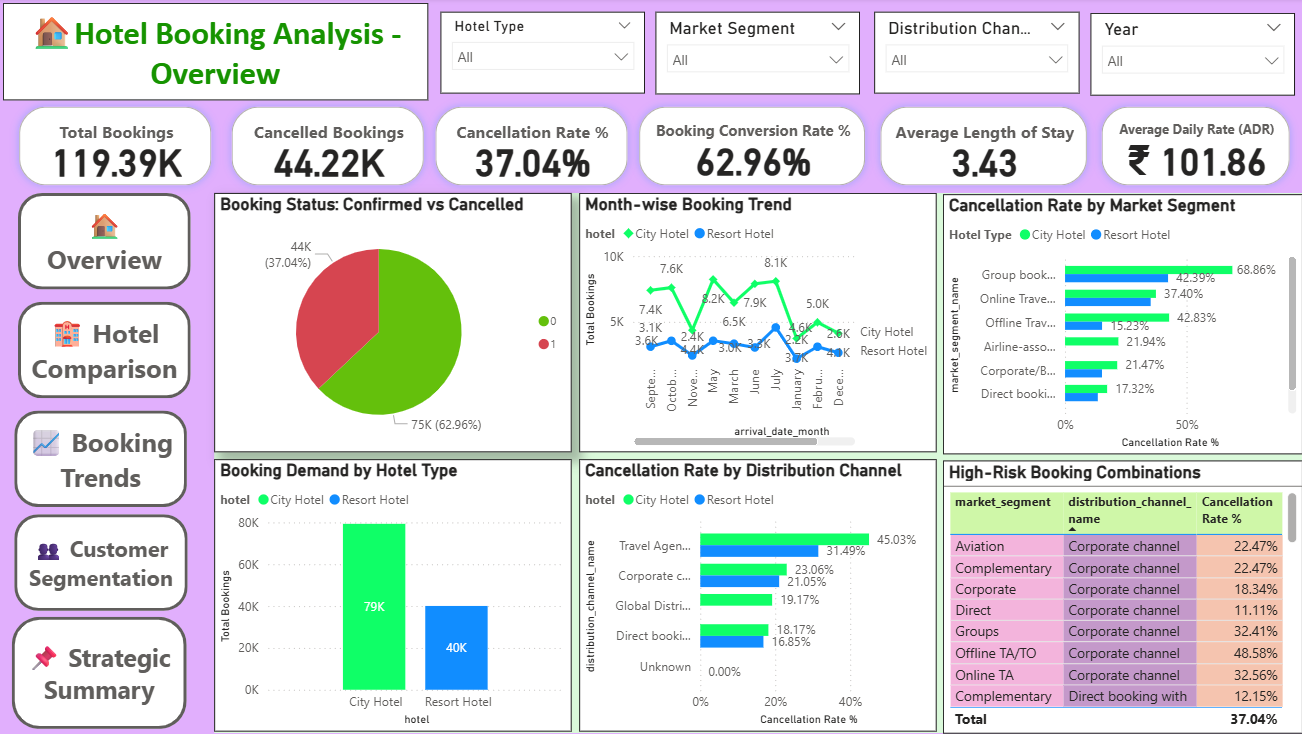

The dashboard page shown, as its layout file describes it:
{"tool":"powerbi","page":{"name":"Dashboard","canvas":[1280,720],"ordinal":0},"visuals":[{"type":"textbox","box":[4.9,4.9,415.8,95.4],"z":0},{"type":"slicer","fields":{"Values":["vw_hotel_analysis.market_segment_name"]},"box":[602.1,10,164.1,86.1],"z":0,"group":"g4"},{"type":"group","id":"g1","title":"Group 4","box":[4.5,90.2,1275.5,109.7],"z":0,"group":"g3"},{"type":"cardVisual","fields":{"Data":["vw_hotel_analysis.Total Bookings"]},"box":[4.5,90.2,220,109.7],"z":0,"group":"g1"},{"type":"pieChart","title":"Booking Status: Confirmed vs Cancelled","fields":{"Category":["vw_hotel_analysis.cancellation_flag"],"Y":["vw_hotel_analysis.Total Bookings"],"Series":["vw_hotel_analysis.Booking Status"]},"box":[211.5,191.3,349.7,253.4],"z":0,"group":"g2"},{"type":"slicer","fields":{"Values":["vw_hotel_analysis.distribution_channel_name"]},"box":[776.9,10,164.5,85.4],"z":1000,"group":"g4"},{"type":"cardVisual","fields":{"Data":["vw_hotel_analysis.Cancelled Bookings"]},"box":[213,90.2,220,109.7],"z":1000,"group":"g1"},{"type":"group","id":"g2","title":"Group 1","box":[211.5,191.3,1065.1,528.3],"z":1000},{"type":"tableEx","title":"High-Risk Booking Combinations","fields":{"Values":["vw_hotel_analysis.market_segment","vw_hotel_analysis.distribution_channel_name","vw_hotel_analysis.Cancellation Rate %"]},"box":[924.5,452.4,352.3,267.3],"z":1000,"group":"g2"},{"type":"slicer","fields":{"Values":["vw_hotel_analysis.arrival_date.Variation.Date Hierarchy.Year"]},"box":[950.9,10.5,164.3,86.1],"z":2000,"group":"g4"},{"type":"slicer","fields":{"Values":["vw_hotel_analysis.season"]},"box":[1123.8,11,152.9,85.6],"z":2000,"group":"g5"},{"type":"group","id":"g3","title":"Group 3","box":[4.5,90.2,1275.4,110],"z":2000},{"type":"cardVisual","fields":{"Data":["vw_hotel_analysis.Cancellation Rate %"]},"box":[411.7,90.2,220,109.7],"z":2000,"group":"g1"},{"type":"lineChart","title":"Month-wise Booking Trend","fields":{"Category":["vw_hotel_analysis.arrival_date_month"],"Y":["vw_hotel_analysis.Total Bookings"],"Series":["vw_hotel_analysis.hotel"]},"box":[568.5,191.3,349.7,253.4],"z":2000,"group":"g2"},{"type":"group","id":"g4","title":"Group 5","box":[429.2,9.8,686,86.8],"z":3000,"group":"g5"},{"type":"slicer","fields":{"Values":["vw_hotel_analysis.hotel"]},"box":[429.2,9.8,164.1,85.4],"z":3000,"group":"g4"},{"type":"cardVisual","fields":{"Data":["vw_hotel_analysis.Booking Conversion Rate %"]},"box":[610.5,90.2,253.6,109.7],"z":3000,"group":"g1"},{"type":"clusteredBarChart","title":"Cancellation Rate by Distribution Channel","fields":{"Category":["vw_hotel_analysis.distribution_channel_name"],"Y":["vw_hotel_analysis.Cancellation Rate %"],"Series":["vw_hotel_analysis.hotel"]},"box":[568.5,451.9,349.7,266.7],"z":3000,"group":"g2"},{"type":"actionButton","box":[13.5,605.8,171.1,109.9],"z":3250},{"type":"actionButton","box":[15.9,505,169.7,94.6],"z":3750},{"type":"cardVisual","fields":{"Data":["Avg(vw_hotel_analysis.stay_length)"]},"box":[846.8,90.2,234,109.7],"z":4000,"group":"g1"},{"type":"columnChart","title":"Booking Demand by Hotel Type","fields":{"Y":["vw_hotel_analysis.Total Bookings"],"Category":["vw_hotel_analysis.hotel"],"Series":["vw_hotel_analysis.hotel"]},"box":[211.5,451.9,349.7,266.7],"z":4000,"group":"g2"},{"type":"actionButton","box":[15.9,403.4,169.1,94.5],"z":4125},{"type":"actionButton","box":[20.1,297.2,169.1,94.5],"z":4500},{"type":"cardVisual","fields":{"Data":["Avg(vw_hotel_analysis.adr)"]},"box":[1064,90.2,216,109.7],"z":5000,"group":"g1"},{"type":"actionButton","box":[20.1,190.6,169.1,94.5],"z":5000},{"type":"clusteredBarChart","title":"Cancellation Rate by Market Segment","fields":{"Category":["vw_hotel_analysis.market_segment_name"],"Series":["vw_hotel_analysis.hotel"],"Y":["vw_hotel_analysis.Cancellation Rate %"]},"box":[924.2,192.5,352.1,254.6],"z":5000,"group":"g2"},{"type":"group","id":"g5","title":"Group 2","box":[429.2,9.8,847.4,86.8],"z":5001}]}

Visuals, with their boxes in screenshot pixels (x1, y1, x2, y2), scaled from the page's 1280x720 canvas onto the 1302x734 screenshot:
textbox: (5, 5, 428, 102)
slicer - vw_hotel_analysis.market_segment_name: (612, 10, 779, 98)
"Group 4" group: (5, 92, 1301, 204)
cardVisual - vw_hotel_analysis.Total Bookings: (5, 92, 228, 204)
"Booking Status: Confirmed vs Cancelled" pieChart: (215, 195, 571, 453)
slicer - vw_hotel_analysis.distribution_channel_name: (790, 10, 958, 97)
cardVisual - vw_hotel_analysis.Cancelled Bookings: (217, 92, 440, 204)
"Group 1" group: (215, 195, 1299, 733)
"High-Risk Booking Combinations" tableEx: (940, 461, 1299, 733)
slicer - vw_hotel_analysis.arrival_date.Variation.Date Hierarchy.Year: (967, 11, 1134, 98)
slicer - vw_hotel_analysis.season: (1143, 11, 1299, 98)
"Group 3" group: (5, 92, 1301, 204)
cardVisual - vw_hotel_analysis.Cancellation Rate %: (419, 92, 643, 204)
"Month-wise Booking Trend" lineChart: (578, 195, 934, 453)
"Group 5" group: (437, 10, 1134, 98)
slicer - vw_hotel_analysis.hotel: (437, 10, 603, 97)
cardVisual - vw_hotel_analysis.Booking Conversion Rate %: (621, 92, 879, 204)
"Cancellation Rate by Distribution Channel" clusteredBarChart: (578, 461, 934, 733)
actionButton: (14, 618, 188, 730)
actionButton: (16, 515, 189, 611)
cardVisual - Avg(vw_hotel_analysis.stay_length): (861, 92, 1099, 204)
"Booking Demand by Hotel Type" columnChart: (215, 461, 571, 733)
actionButton: (16, 411, 188, 508)
actionButton: (20, 303, 192, 399)
cardVisual - Avg(vw_hotel_analysis.adr): (1082, 92, 1301, 204)
actionButton: (20, 194, 192, 291)
"Cancellation Rate by Market Segment" clusteredBarChart: (940, 196, 1298, 456)
"Group 2" group: (437, 10, 1299, 98)
